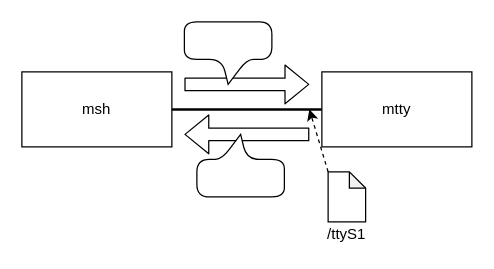
Some shapes in this 494 by 269 pixel diagram are drawn without their labels. The centre of each missing label's shape, as x and y in pixels:
"標準入力" goes at point 240,165.
"標準出力" goes at point 227,52.
